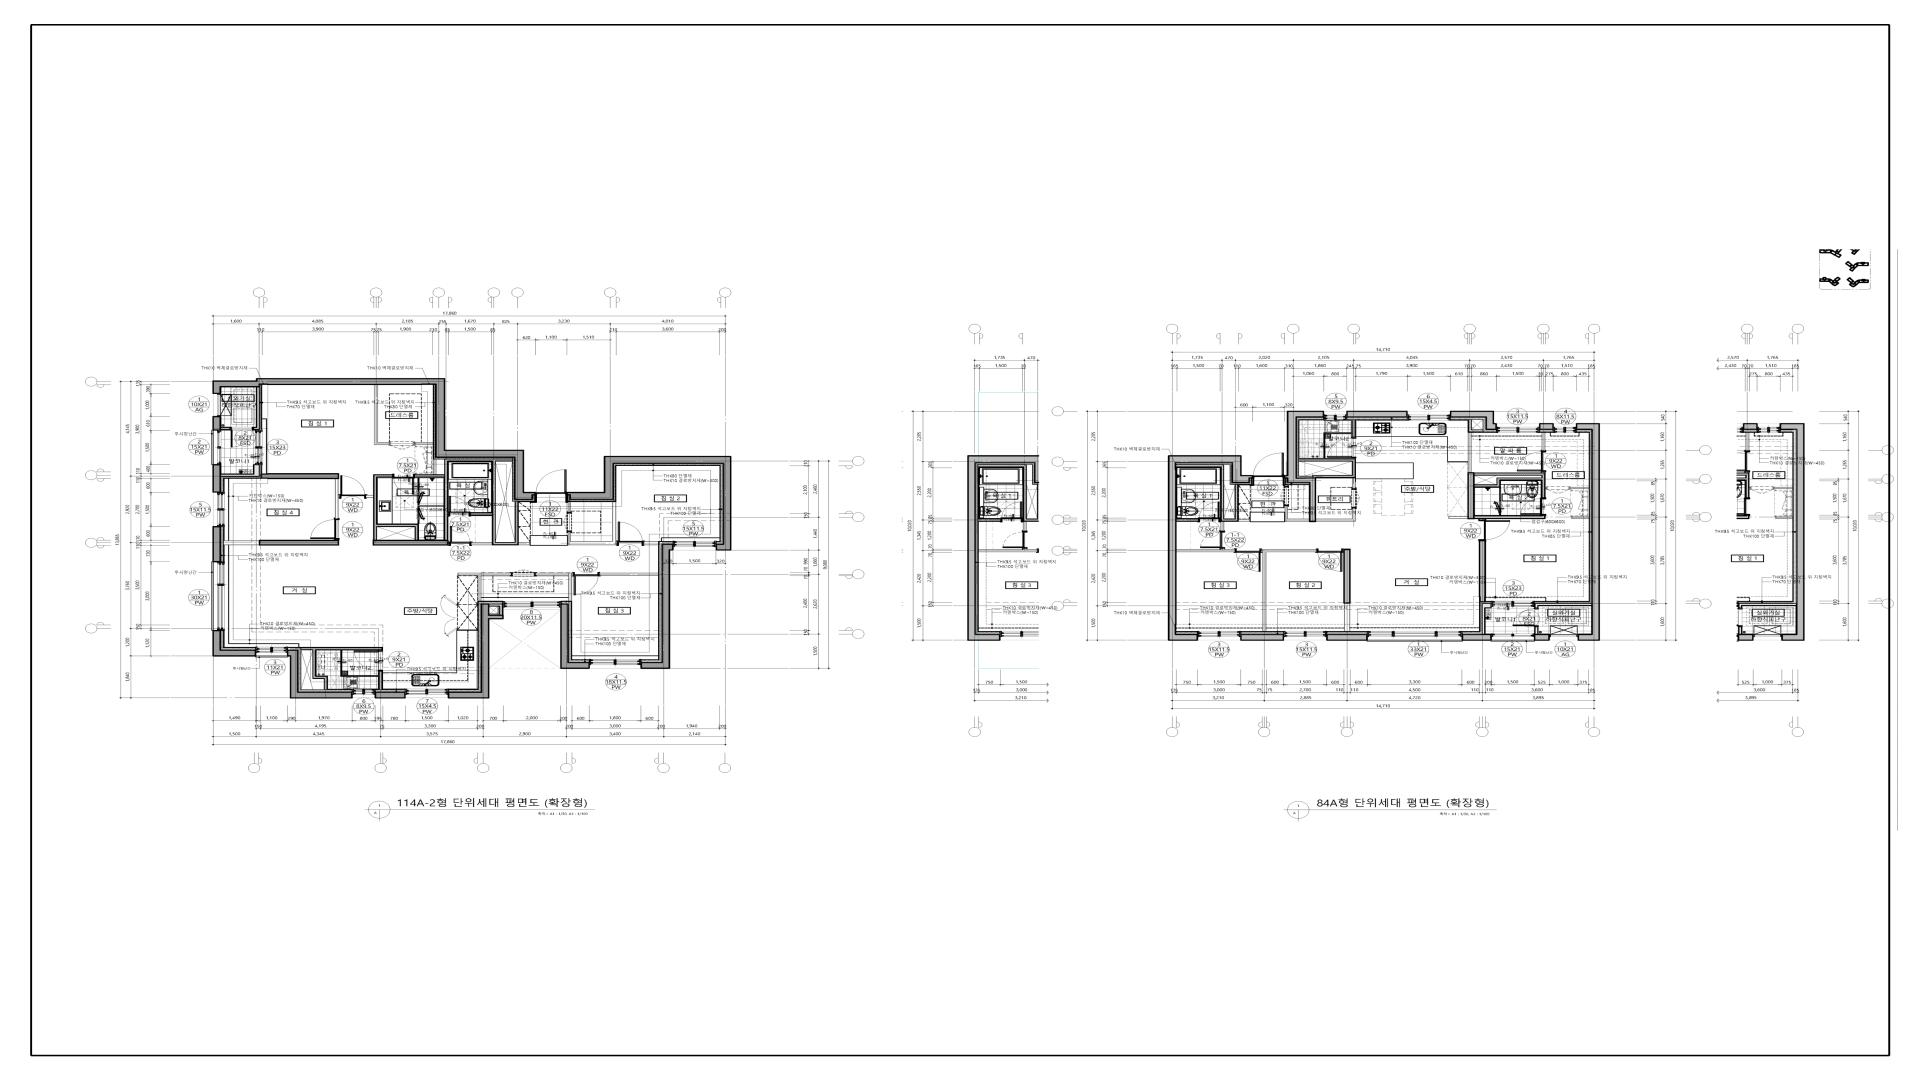door: (1253, 452, 1284, 487), (535, 469, 567, 502), (1478, 520, 1510, 541), (1316, 549, 1344, 572), (616, 522, 644, 546), (572, 572, 600, 596), (1327, 436, 1357, 458), (1516, 451, 1547, 472), (310, 518, 340, 539), (353, 650, 384, 671), (1236, 549, 1262, 572), (339, 475, 365, 498), (1520, 497, 1547, 516), (1197, 501, 1220, 522), (393, 473, 415, 495), (448, 496, 471, 517), (1200, 531, 1225, 550), (231, 427, 253, 447), (448, 526, 471, 546), (389, 442, 415, 450), (1352, 488, 1360, 508), (1545, 487, 1569, 493), (512, 570, 535, 576)
wall: (212, 378, 535, 500), (1168, 455, 1253, 641), (567, 456, 732, 551), (415, 459, 530, 546), (448, 604, 504, 699), (1576, 423, 1600, 641), (1176, 464, 1250, 531), (1262, 550, 1316, 632), (1284, 411, 1324, 522), (641, 543, 674, 669), (301, 647, 384, 690), (367, 475, 419, 539), (287, 650, 353, 699), (568, 502, 616, 545), (560, 604, 589, 669), (1474, 472, 1545, 497), (1299, 458, 1356, 488), (458, 572, 512, 601), (212, 630, 256, 657), (535, 572, 572, 601), (375, 385, 389, 444), (1451, 411, 1497, 430), (1468, 419, 1484, 472), (1316, 508, 1356, 522), (258, 539, 339, 546), (222, 464, 260, 477), (373, 539, 448, 546), (1478, 541, 1486, 601), (261, 473, 339, 479), (1346, 411, 1408, 418), (1284, 506, 1309, 522), (1344, 549, 1350, 604), (212, 526, 222, 563), (1468, 472, 1474, 520), (1535, 603, 1592, 608), (1482, 603, 1491, 634), (1241, 634, 1284, 641), (1474, 516, 1545, 520), (253, 388, 260, 430), (1327, 634, 1367, 641), (212, 464, 222, 493), (600, 572, 658, 576), (375, 692, 406, 699), (1461, 634, 1491, 641), (1344, 604, 1350, 632), (1176, 550, 1236, 553), (335, 479, 339, 518), (489, 604, 504, 615), (212, 415, 222, 431), (224, 541, 258, 545), (1534, 634, 1549, 641), (378, 671, 384, 690), (1539, 423, 1553, 430), (1176, 518, 1199, 522), (1542, 433, 1545, 451), (1352, 419, 1356, 436), (1569, 487, 1589, 489), (415, 442, 433, 444), (434, 459, 436, 475), (644, 542, 658, 545), (1535, 626, 1539, 634), (222, 427, 231, 430), (568, 502, 571, 512), (1449, 517, 1468, 518), (1572, 517, 1589, 518)
window: (1367, 630, 1461, 642), (211, 563, 225, 630), (589, 659, 641, 669), (504, 601, 560, 609), (214, 493, 225, 526), (1408, 411, 1451, 421), (1497, 423, 1539, 433), (1199, 630, 1241, 640), (1284, 630, 1327, 640), (406, 688, 448, 698), (674, 541, 716, 550), (1491, 633, 1534, 642), (256, 646, 287, 658), (211, 431, 222, 464), (253, 430, 262, 464), (1491, 601, 1535, 607), (1324, 411, 1346, 421), (1553, 423, 1576, 433), (353, 688, 375, 698), (1549, 634, 1577, 640), (214, 394, 220, 415)
